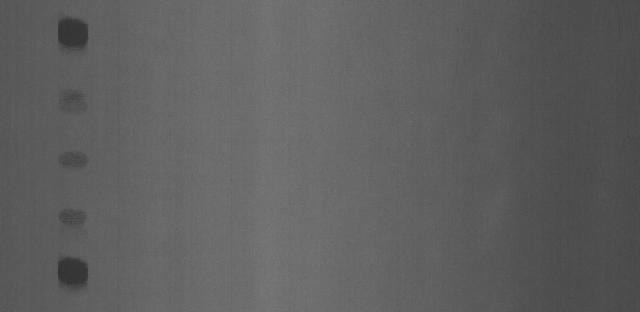oil_spot: (53, 251, 100, 296), (48, 11, 98, 53), (53, 80, 95, 119), (52, 202, 101, 232), (52, 147, 95, 173)
